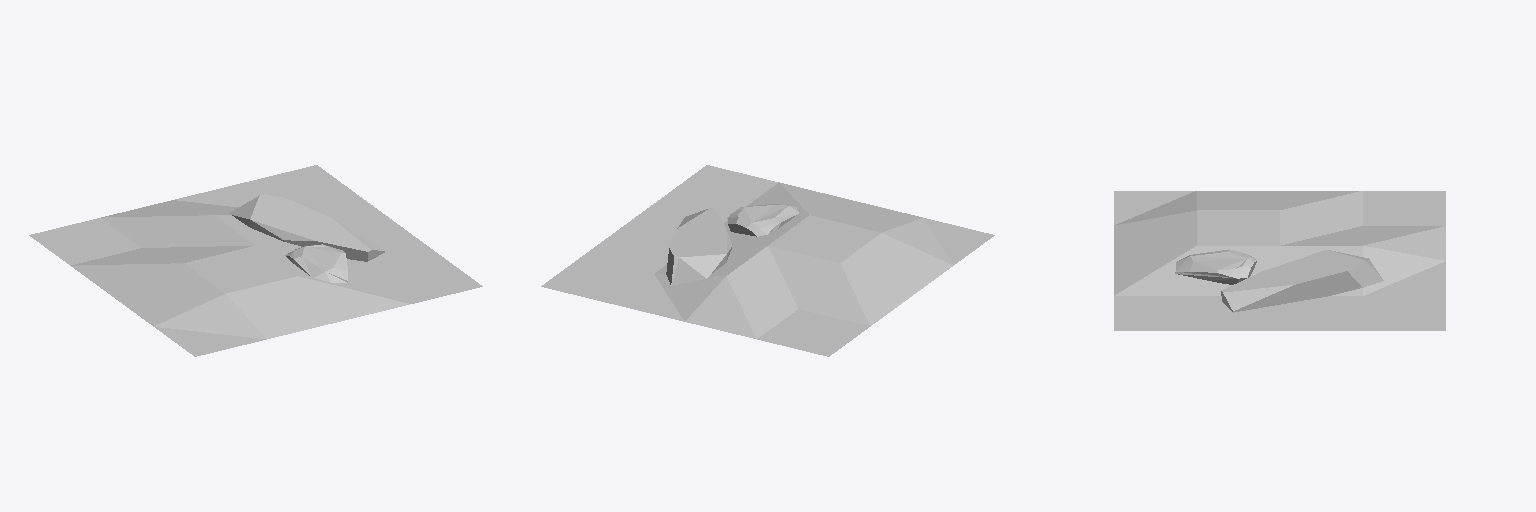
The model's file is tile_5.obj.
3 renders of one model, left to right at view 1: azimuth 30°, elevation 25°; view 2: azimuth 150°, elevation 25°; view 3: azimuth 270°, elevation 25°, orthographic.
Visible parts, largest first — view 1: Cube.465_Cube.466, Cube.015_Cube.008, Cube.466_Cube.467; view 2: Cube.465_Cube.466, Cube.015_Cube.008, Cube.466_Cube.467; view 3: Cube.465_Cube.466, Cube.015_Cube.008, Cube.466_Cube.467.
Boxes of the visible parts, x1=… form: Cube.465_Cube.466: x1=29, y1=165, x2=482, y2=356; Cube.015_Cube.008: x1=229, y1=194, x2=384, y2=261; Cube.466_Cube.467: x1=285, y1=244, x2=347, y2=282; Cube.465_Cube.466: x1=541, y1=165, x2=994, y2=356; Cube.015_Cube.008: x1=666, y1=208, x2=731, y2=285; Cube.466_Cube.467: x1=727, y1=204, x2=798, y2=236; Cube.465_Cube.466: x1=1114, y1=191, x2=1445, y2=330; Cube.015_Cube.008: x1=1221, y1=250, x2=1383, y2=312; Cube.466_Cube.467: x1=1175, y1=249, x2=1256, y2=284.
Bounding box in the file's own units: 4 × 0.4893 × 4.